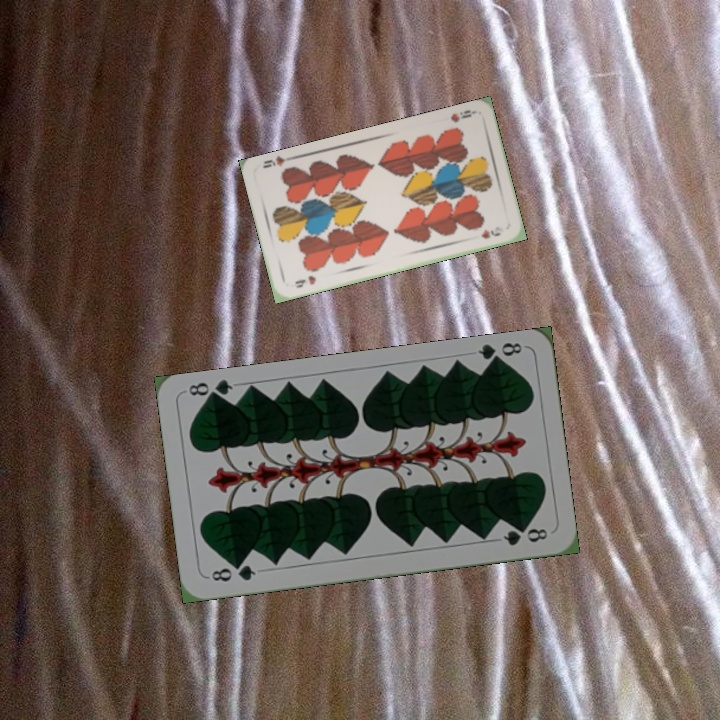G8: (474, 338, 524, 369), (207, 560, 259, 585)
H9: (447, 106, 478, 125), (290, 271, 318, 291)
